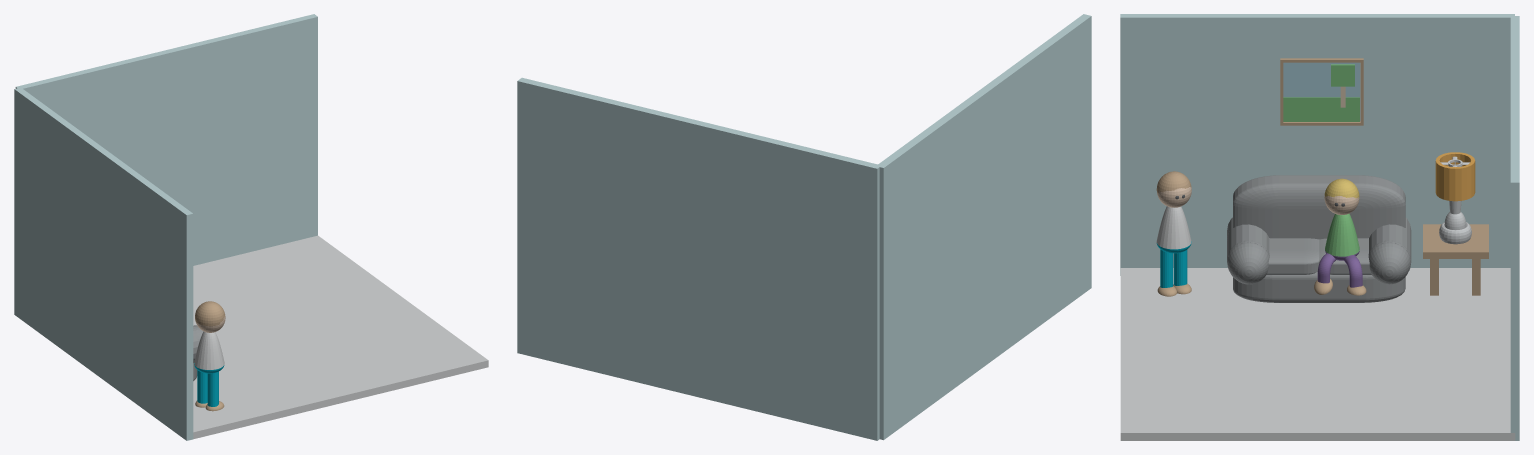
The model's file is Trinket-place.glb.
3 views of the same model, side by side, from view 1: azimuth 30°, elevation 25°; view 2: azimuth 150°, elevation 25°; view 3: azimuth 270°, elevation 25° (orthographic). The views are drawn at different scales.
Parts seen in each view (by area): view 1: Mesh_Mesh_head_geo.001_lambert2SG.001; view 2: Mesh_Mesh_head_geo.001_lambert2SG.001; view 3: Mesh_Mesh_head_geo.001_lambert2SG.001.
Part boxes in pixels (x1,y1,x2,y2): Mesh_Mesh_head_geo.001_lambert2SG.001: (14,14,488,440); Mesh_Mesh_head_geo.001_lambert2SG.001: (517,14,1091,440); Mesh_Mesh_head_geo.001_lambert2SG.001: (1120,14,1519,440).
Bounding box in the file's own units: 0.091 × 0.065 × 0.091.
